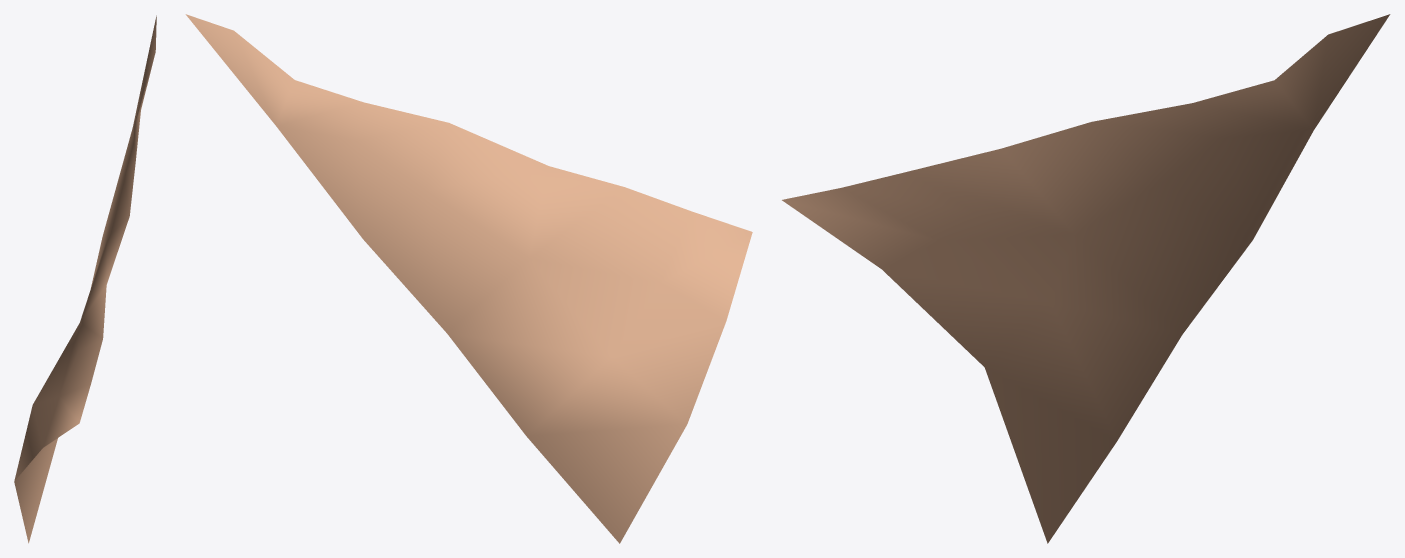
The model's file is carotid-triangle-l.glb.
The picture shows the model from 3 angles, left to right: view 1: azimuth 30°, elevation 25°; view 2: azimuth 150°, elevation 25°; view 3: azimuth 270°, elevation 25°; orthographic projection. The views are drawn at different scales.
Parts seen in each view (by area): view 1: Carotid triangle.l; view 2: Carotid triangle.l; view 3: Carotid triangle.l.
Part boxes in pixels (x1,y1,x2,y2): Carotid triangle.l: [14, 15, 156, 543]; Carotid triangle.l: [185, 14, 752, 543]; Carotid triangle.l: [782, 14, 1390, 543].
Size of the model in its own units: 0.0234 by 0.0354 by 0.0269.
